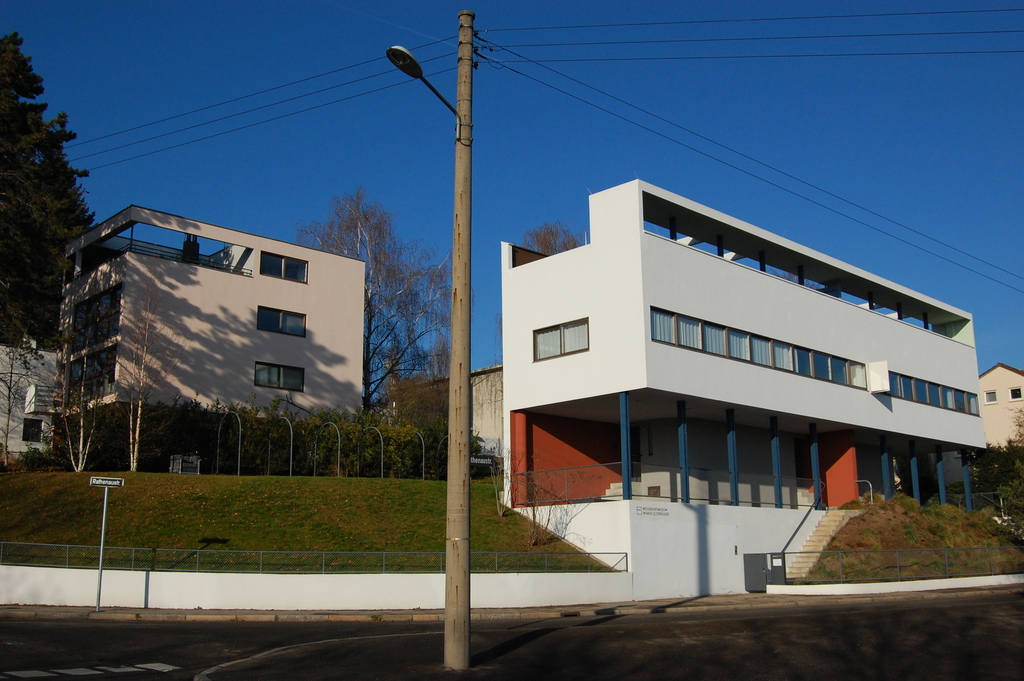Tree: (295, 183, 456, 408), (0, 51, 92, 334), (44, 272, 115, 473), (118, 288, 184, 470), (0, 301, 56, 468), (523, 215, 579, 261)
